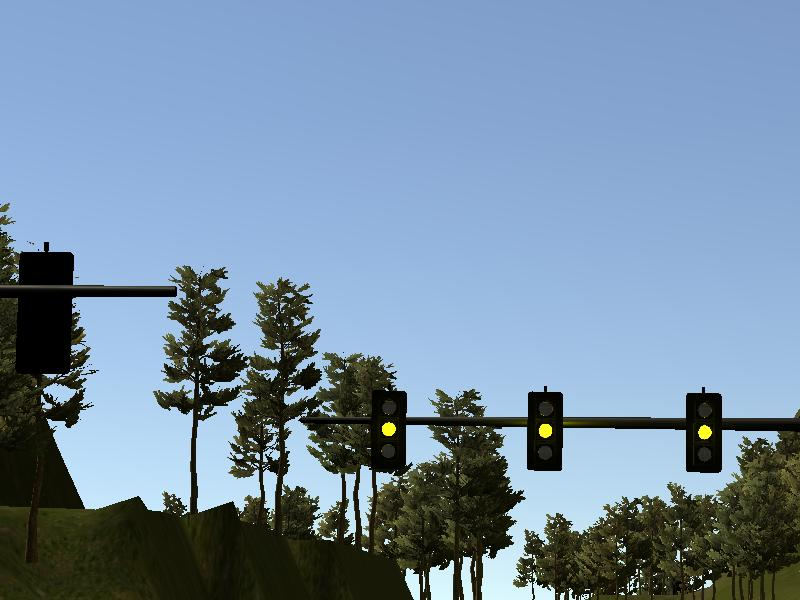yellow: (526, 390, 565, 473), (684, 391, 722, 474), (372, 388, 409, 473)
